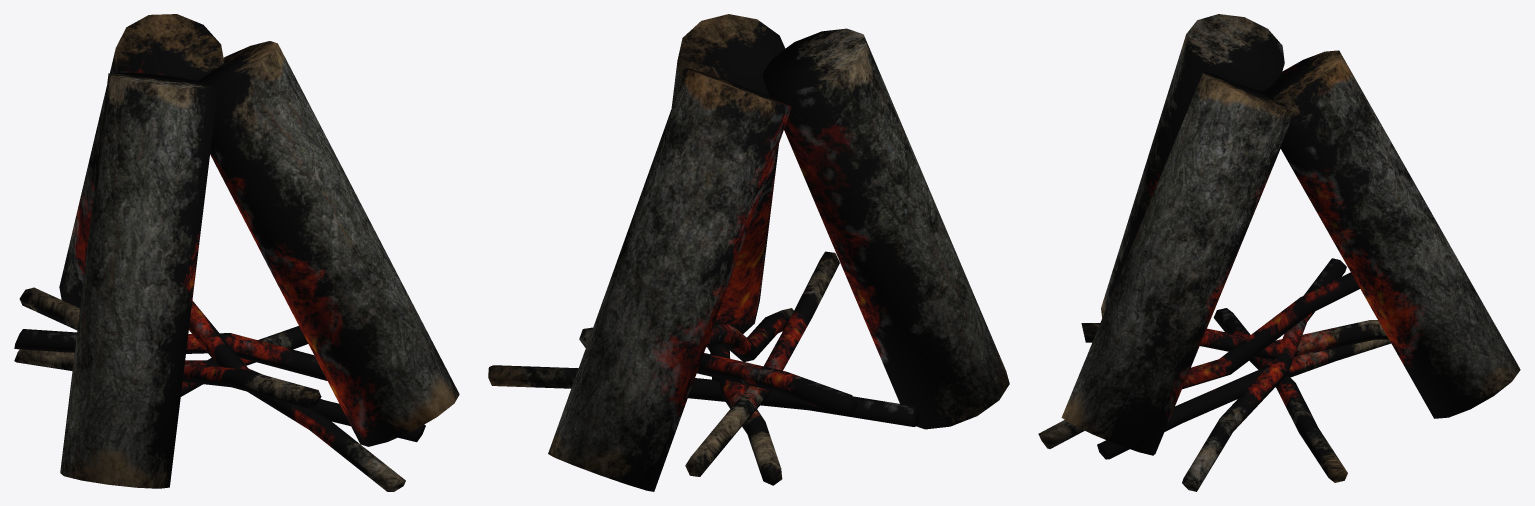
The model's file is campfire.glb.
3 renders of one model, left to right at view 1: azimuth 30°, elevation 25°; view 2: azimuth 150°, elevation 25°; view 3: azimuth 270°, elevation 25°, orthographic. The views are drawn at different scales.
Parts seen in each view (by area): view 1: Cylinder.005; view 2: Cylinder.005; view 3: Cylinder.005.
Part boxes in pixels (x1,y1,x2,y2): Cylinder.005: [14, 14, 459, 491]; Cylinder.005: [488, 14, 1009, 491]; Cylinder.005: [1038, 14, 1520, 491].
Bounding box in the file's own units: 1.79 × 1.64 × 2.
Materials: 1 (1 with a texture image).
